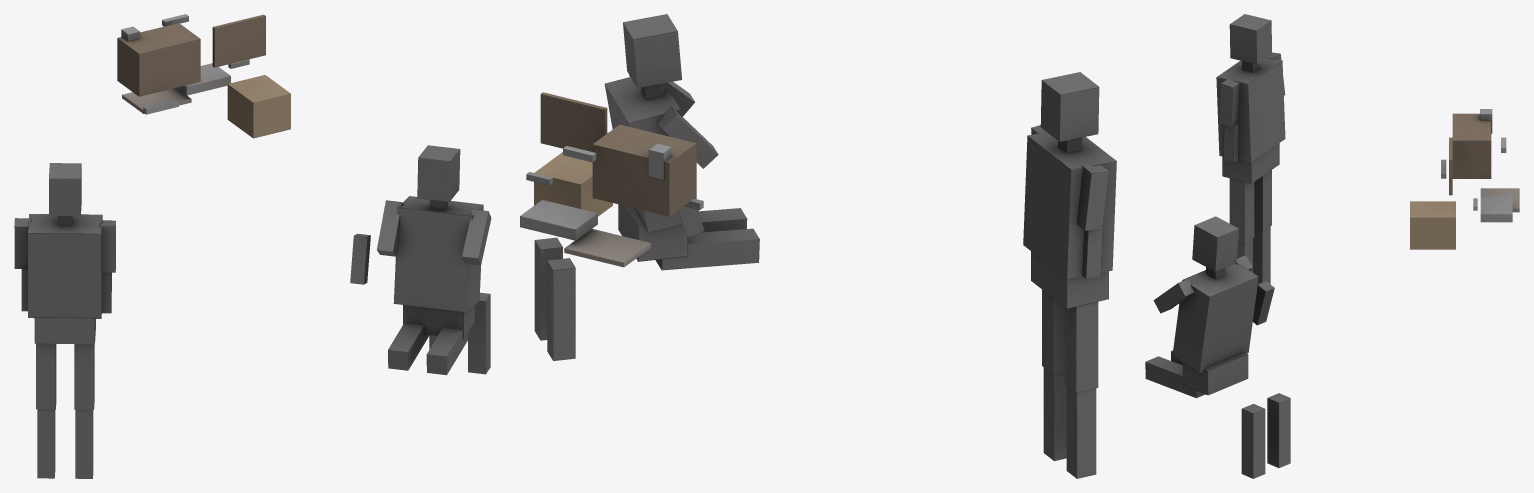
Rendered from coda_radio.glb.
3 views of the same model, side by side, from view 1: azimuth 30°, elevation 25°; view 2: azimuth 150°, elevation 25°; view 3: azimuth 270°, elevation 25° (orthographic). The views are drawn at different scales.
Visible parts, largest first — view 1: CH_coda_radio_static, coda_radio_radio, coda_radio_crate, coda_radio_panel, coda_radio_tray, coda_radio_cloth; view 2: CH_coda_radio_static, coda_radio_radio, coda_radio_panel, coda_radio_crate, coda_radio_tray, coda_radio_cloth, coda_radio_valve; view 3: CH_coda_radio_static, coda_radio_radio, coda_radio_crate, coda_radio_tray, coda_radio_cloth.
Boxes of the visible parts, x1,y1,x2,y2 form: CH_coda_radio_static: (14,145,491,478); coda_radio_radio: (117,23,200,96); coda_radio_crate: (227,75,290,138); coda_radio_panel: (212,14,265,67); coda_radio_tray: (176,63,230,95); coda_radio_cloth: (122,88,191,113); CH_coda_radio_static: (534,14,1116,478); coda_radio_radio: (592,124,696,216); coda_radio_panel: (540,92,607,151); coda_radio_crate: (534,152,612,216); coda_radio_tray: (520,200,597,240); coda_radio_cloth: (564,228,651,267); coda_radio_valve: (648,143,671,179); CH_coda_radio_static: (1145,14,1290,478); coda_radio_radio: (1452,113,1491,178); coda_radio_crate: (1410,201,1455,249); coda_radio_tray: (1480,195,1512,222); coda_radio_cloth: (1480,188,1519,212).
Size of the model in its own units: 2.74 by 1.7 by 2.12.
1 material, 1 textured.
